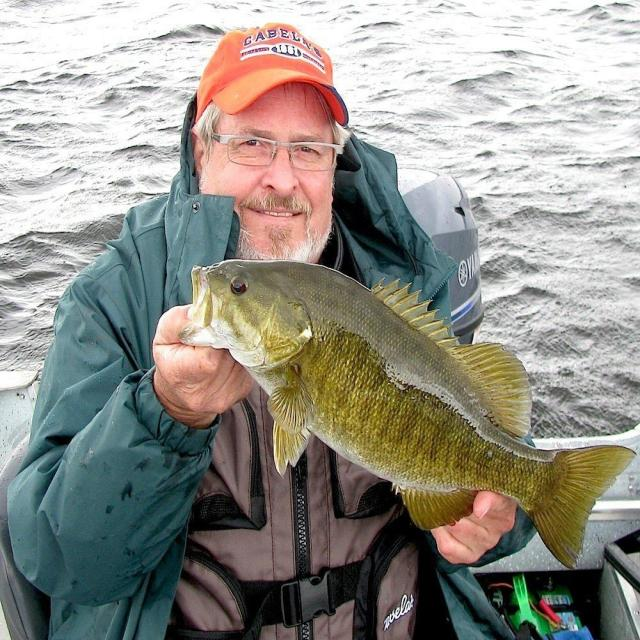Bass - Smallmouth: (181, 259, 634, 566)
